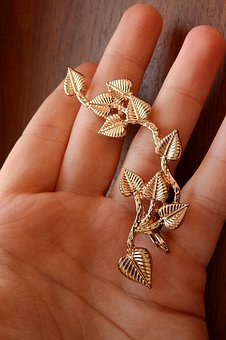palm: (14, 196, 214, 336)
